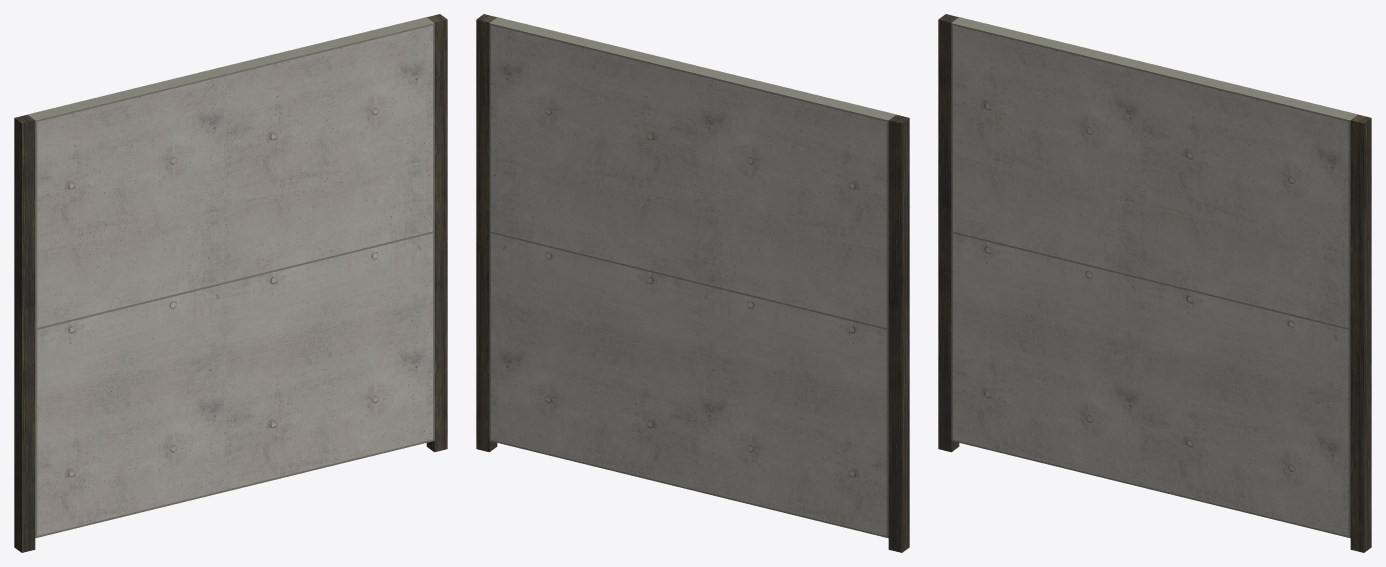
The model's file is ABF3-H1800_rc.fbx.
3 renders of one model, left to right at view 1: azimuth 30°, elevation 25°; view 2: azimuth 150°, elevation 25°; view 3: azimuth 330°, elevation 25°, orthographic.
Parts seen in each view (by area): view 1: 1850-1920-60_rc; view 2: 1850-1920-60_rc; view 3: 1850-1920-60_rc.
Part boxes in pixels (bbox=[...]): 1850-1920-60_rc: bbox=[14, 14, 447, 552]; 1850-1920-60_rc: bbox=[476, 14, 909, 552]; 1850-1920-60_rc: bbox=[938, 14, 1371, 552].
Size of the model in its own units: 192 by 185 by 6.4.
Materials: 5 (4 with a texture image).
